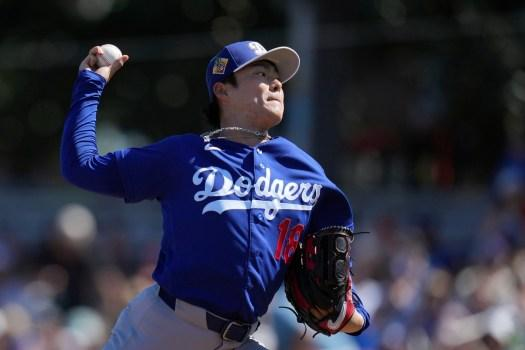baseball: (98, 44, 122, 64)
